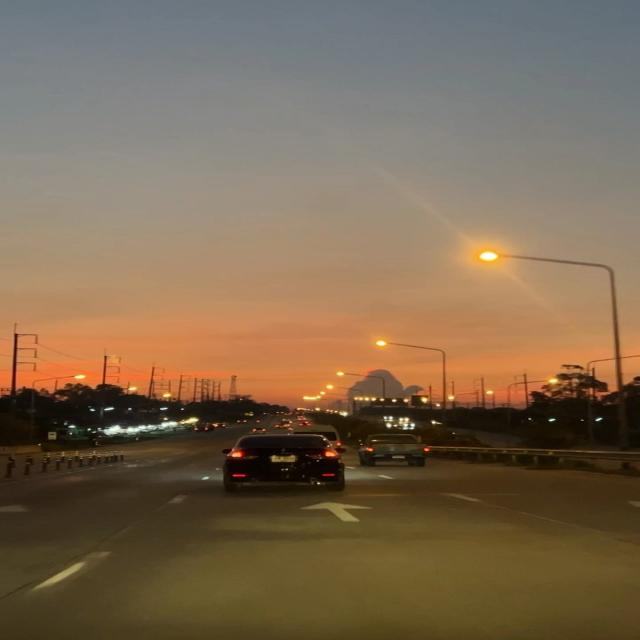Poth-hole: (66, 486, 580, 625)
